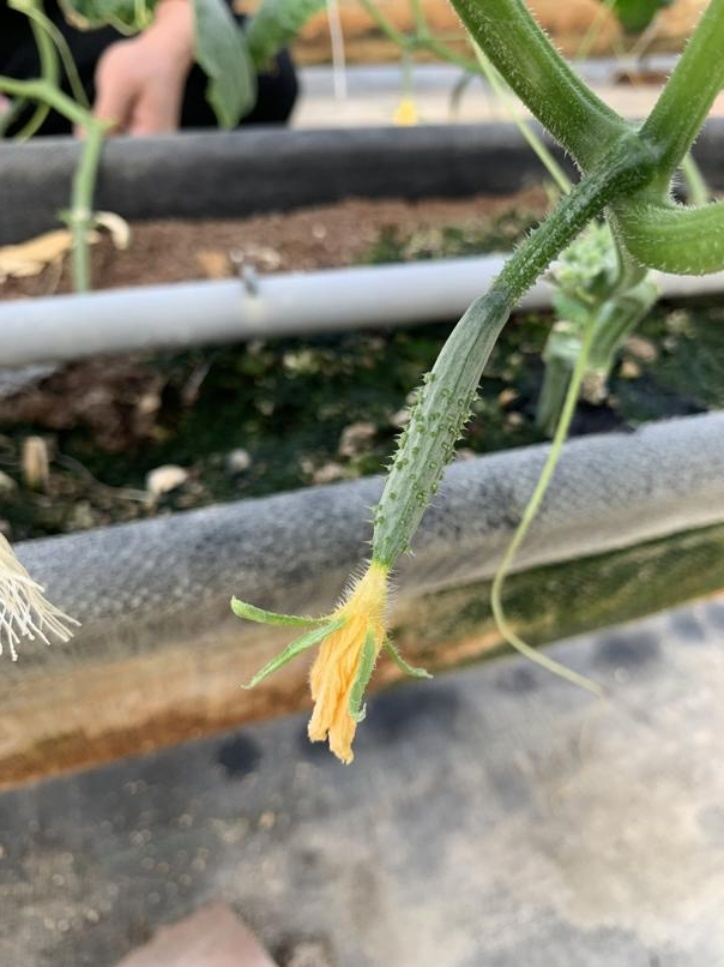bear: (232, 255, 560, 765)
